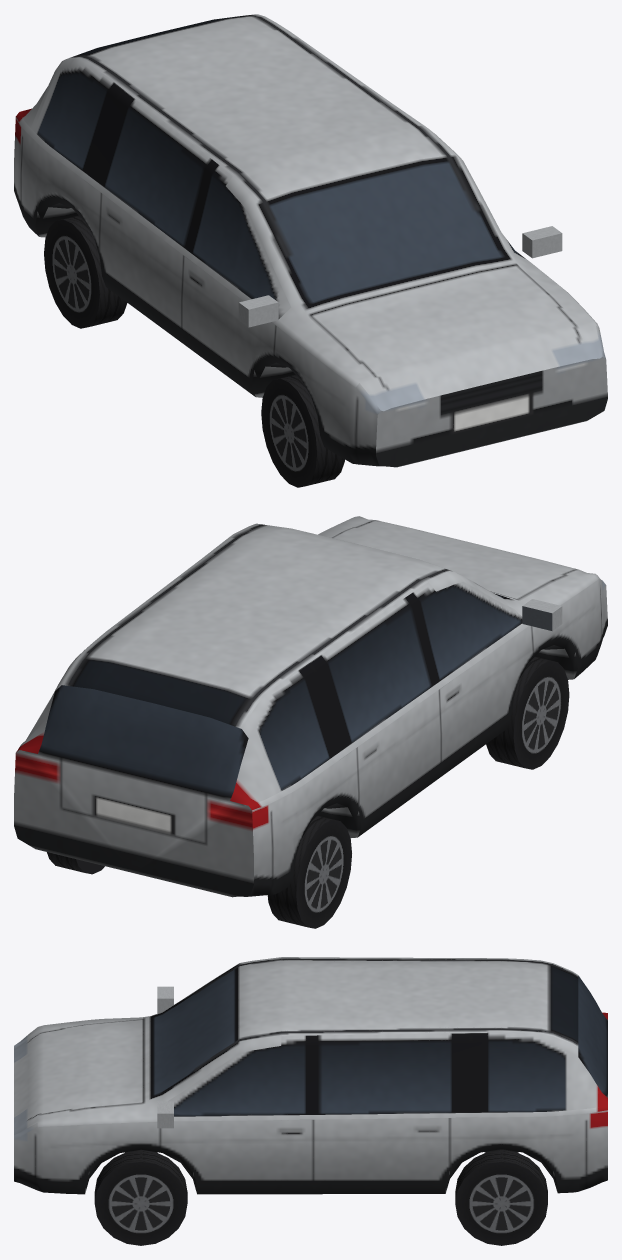
File: SM_Morin_Auto_B_Col_v2_Argento.fbx
The picture shows the model from 3 angles, top to bottom: view 1: azimuth 30°, elevation 25°; view 2: azimuth 150°, elevation 25°; view 3: azimuth 270°, elevation 25°; orthographic projection. The views are drawn at different scales.
Parts seen in each view (by area): view 1: SM_Morin_Auto_B_Col_v2_Argento; view 2: SM_Morin_Auto_B_Col_v2_Argento; view 3: SM_Morin_Auto_B_Col_v2_Argento.
Boxes of the visible parts, bbox=[...] form: SM_Morin_Auto_B_Col_v2_Argento: bbox=[14, 14, 607, 487]; SM_Morin_Auto_B_Col_v2_Argento: bbox=[14, 516, 607, 928]; SM_Morin_Auto_B_Col_v2_Argento: bbox=[14, 957, 607, 1245].
Size of what is drawn, in the model's own units: 220 by 435 by 164.
Materials: 1 (1 with a texture image).
